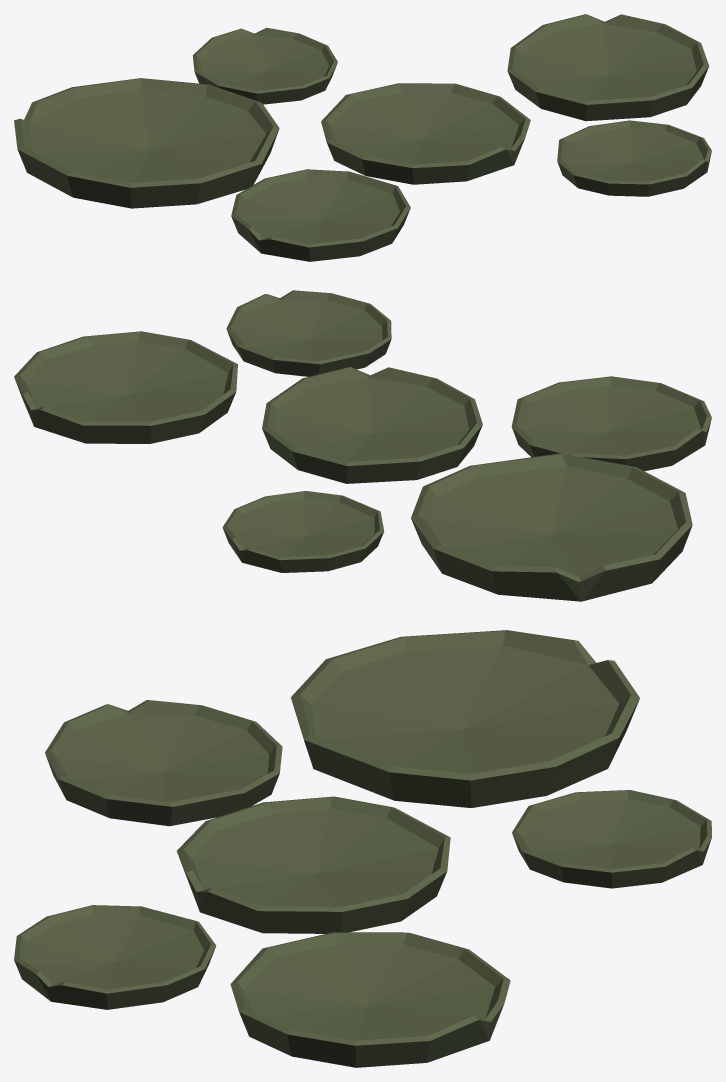
The model's file is source.gltf.
3 renders of one model, top to bottom at view 1: azimuth 30°, elevation 25°; view 2: azimuth 150°, elevation 25°; view 3: azimuth 270°, elevation 25°, orthographic. The views are drawn at different scales.
Parts seen in each view (by area): view 1: SM_Plant_Lillypad_Large_01; view 2: SM_Plant_Lillypad_Large_01; view 3: SM_Plant_Lillypad_Large_01.
Part boxes in pixels (x1,y1,x2,y2): SM_Plant_Lillypad_Large_01: (14,14,711,261); SM_Plant_Lillypad_Large_01: (14,290,711,601); SM_Plant_Lillypad_Large_01: (14,630,711,1067).
Bounding box in the file's own units: 2.87 × 0.1361 × 2.08.
Materials: 1 (1 with a texture image).
